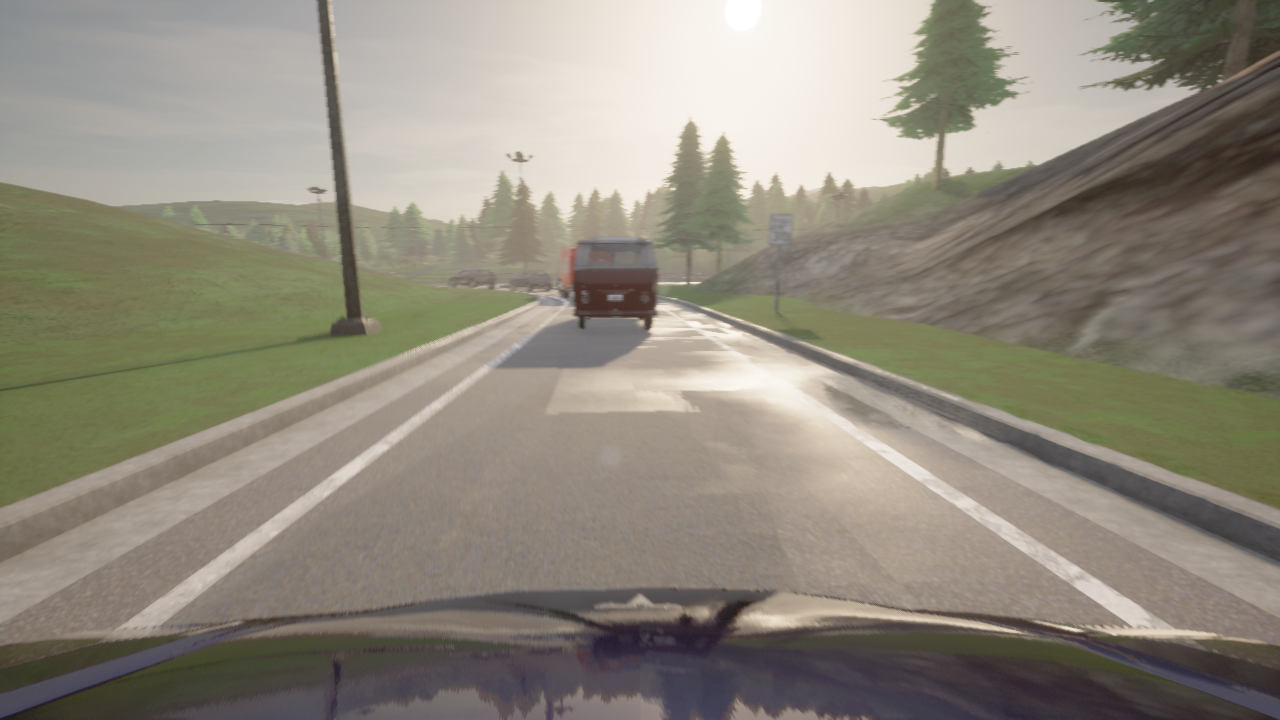cyclist: (0, 588, 1279, 719), (572, 237, 657, 329), (553, 248, 576, 298), (510, 269, 550, 291), (457, 269, 494, 278)
